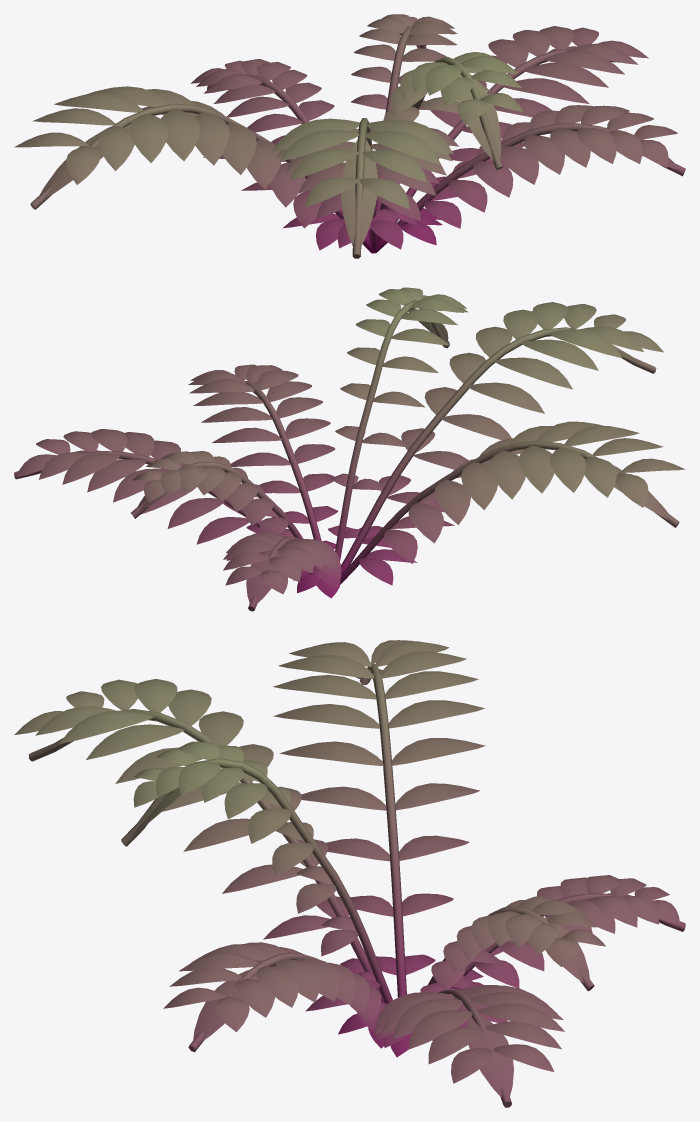
File: fern_01.glb
The picture shows the model from 3 angles, top to bottom: view 1: azimuth 30°, elevation 25°; view 2: azimuth 150°, elevation 25°; view 3: azimuth 270°, elevation 25°; orthographic projection. The views are drawn at different scales.
Visible parts, largest first — view 1: fern_01; view 2: fern_01; view 3: fern_01.
Part boxes in pixels (x1,y1,x2,y2): fern_01: [14, 14, 685, 258]; fern_01: [14, 287, 685, 611]; fern_01: [14, 640, 685, 1107].
Bounding box in the file's own units: 1.64 × 0.6086 × 1.3.
